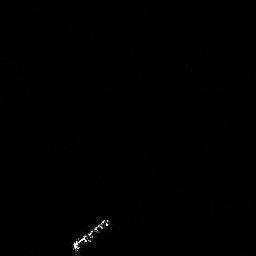ship: (61, 210, 111, 256)
